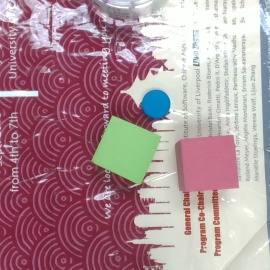blue: (142, 90, 171, 120)
